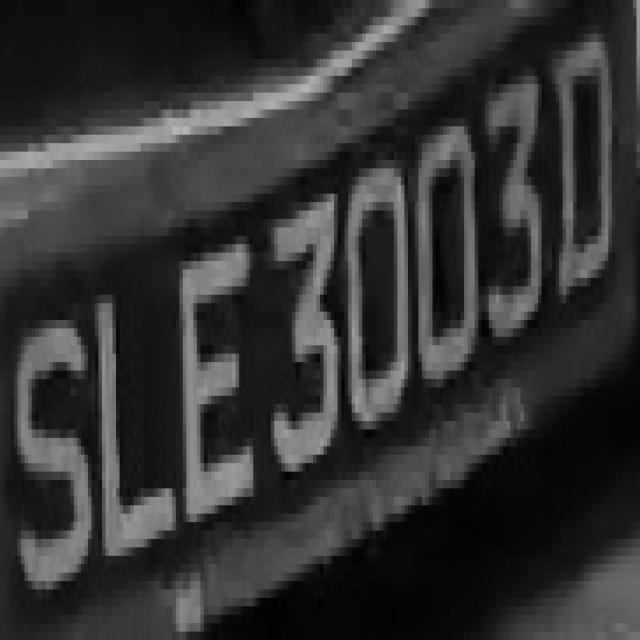0: (401, 75, 492, 412), (345, 143, 415, 455)
3: (264, 194, 344, 497), (478, 75, 545, 354)
D: (559, 34, 616, 328)
E: (176, 236, 264, 547)
L: (81, 270, 172, 581)
S: (14, 294, 95, 614)
